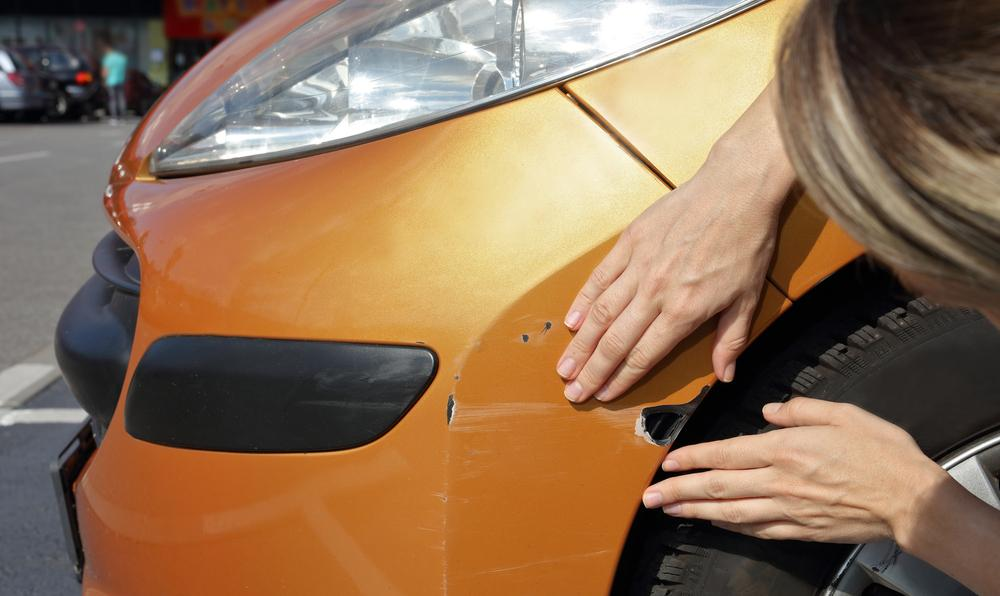crack: (638, 387, 710, 445)
scratch: (420, 308, 619, 596)
